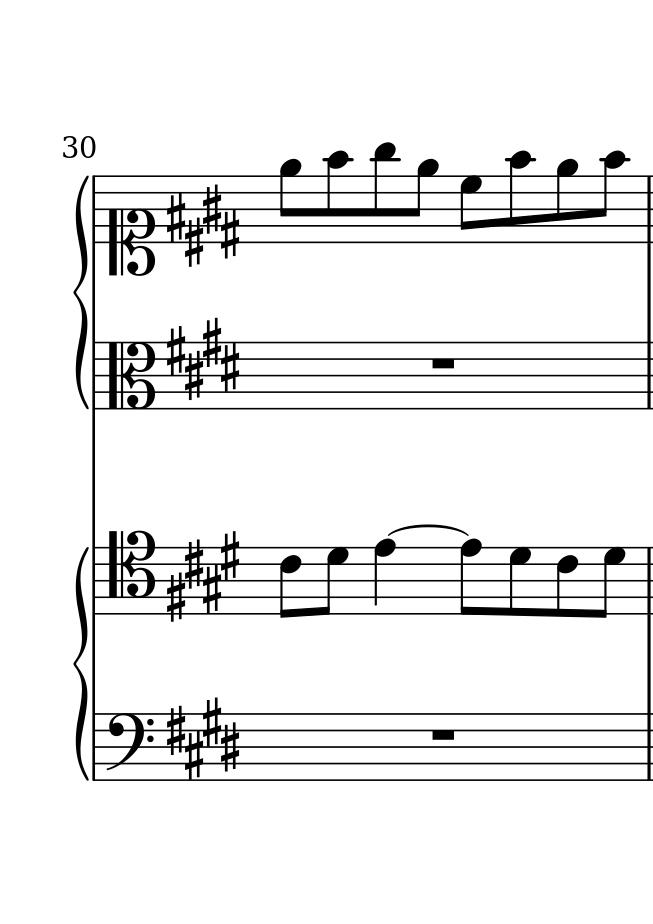0: (80, 134, 97, 160)
3: (61, 134, 78, 159)
4_8: (372, 538, 396, 616)
8_10: (324, 148, 350, 246), (507, 150, 534, 244), (601, 150, 627, 244)
8_11: (371, 141, 398, 244)
8_6: (278, 545, 303, 621), (554, 546, 580, 618)
8_7: (317, 544, 351, 617), (595, 546, 627, 619), (507, 545, 534, 620), (459, 174, 485, 247)
8_8: (459, 537, 484, 618)
8_9: (412, 159, 442, 246), (279, 157, 303, 246), (556, 158, 580, 246)
Brace: (70, 543, 89, 784), (71, 173, 90, 408)
Cclef: (106, 341, 159, 415)
E_S: (165, 529, 242, 623), (164, 182, 243, 266), (163, 698, 242, 782), (166, 316, 242, 401)
Fclef: (105, 711, 157, 784)
Rests1: (426, 725, 460, 746), (426, 353, 459, 372)
Single_barline: (88, 343, 107, 409), (637, 711, 653, 781), (637, 176, 653, 243), (638, 339, 653, 409), (89, 177, 103, 246), (639, 546, 653, 615), (89, 548, 103, 616), (87, 713, 100, 782)
Slur: (384, 521, 467, 536)
Soprano_Cclef: (109, 174, 160, 279)
Tensor_Cclef: (107, 530, 158, 619)
